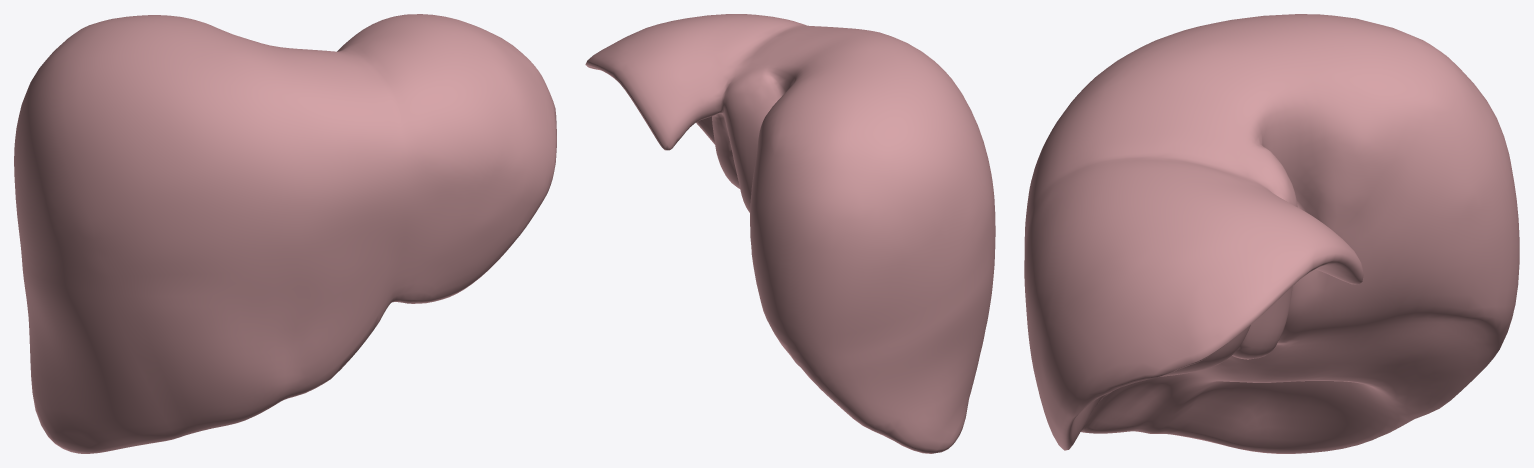
3 renders of one model, left to right at view 1: azimuth 30°, elevation 25°; view 2: azimuth 150°, elevation 25°; view 3: azimuth 270°, elevation 25°, orthographic. The views are drawn at different scales.
Parts seen in each view (by area): view 1: ZA_f4ed8b7ee1271f34; view 2: ZA_f4ed8b7ee1271f34; view 3: ZA_f4ed8b7ee1271f34.
Part boxes in pixels (<box>): ZA_f4ed8b7ee1271f34: <box>14,14,556,453</box>; ZA_f4ed8b7ee1271f34: <box>585,14,995,453</box>; ZA_f4ed8b7ee1271f34: <box>1024,14,1519,453</box>.
Bounding box in the file's own units: 0.2063 × 0.1663 × 0.1532.
